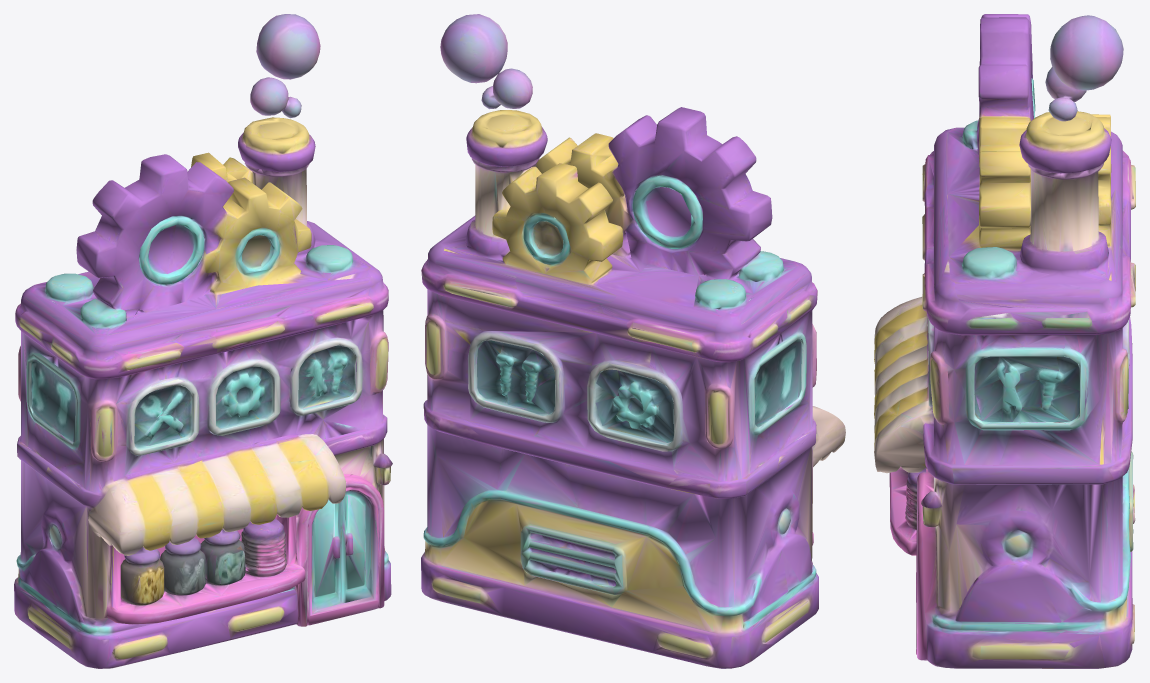
Rendered from lab.glb.
The picture shows the model from 3 angles, left to right: view 1: azimuth 30°, elevation 25°; view 2: azimuth 150°, elevation 25°; view 3: azimuth 270°, elevation 25°; orthographic projection. The views are drawn at different scales.
Visible parts, largest first — view 1: R07_karakuri-lab; view 2: R07_karakuri-lab; view 3: R07_karakuri-lab.
Part boxes in pixels (x1,y1,x2,y2): R07_karakuri-lab: (14, 14, 392, 668); R07_karakuri-lab: (421, 14, 845, 668); R07_karakuri-lab: (874, 14, 1135, 668).
Bounding box in the file's own units: 0.6066 × 1 × 0.3782.
1 material, 1 textured.
